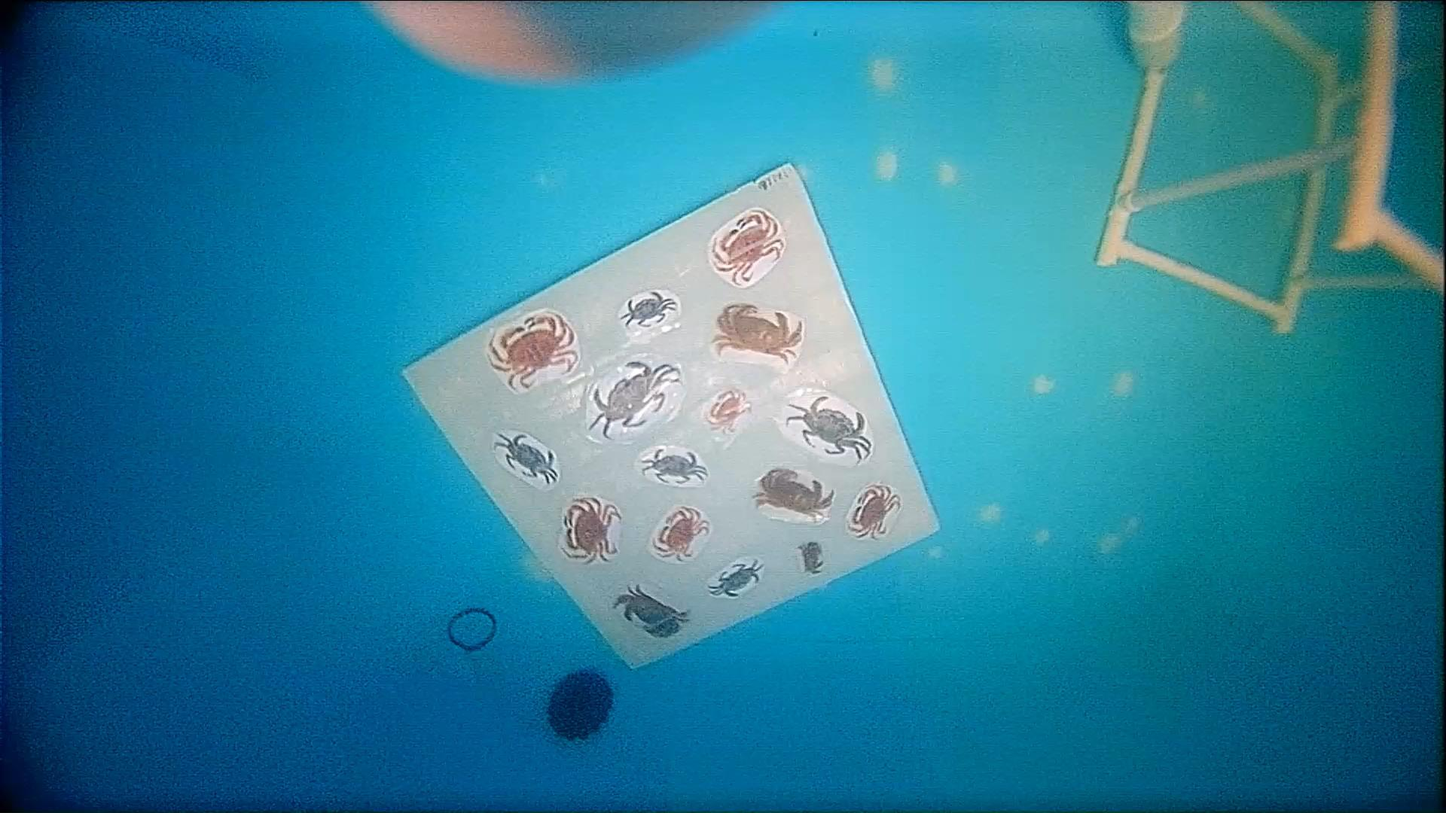GreenCrab: (588, 361, 680, 437), (785, 396, 871, 461), (494, 434, 556, 483), (642, 449, 706, 483), (624, 291, 678, 326)
